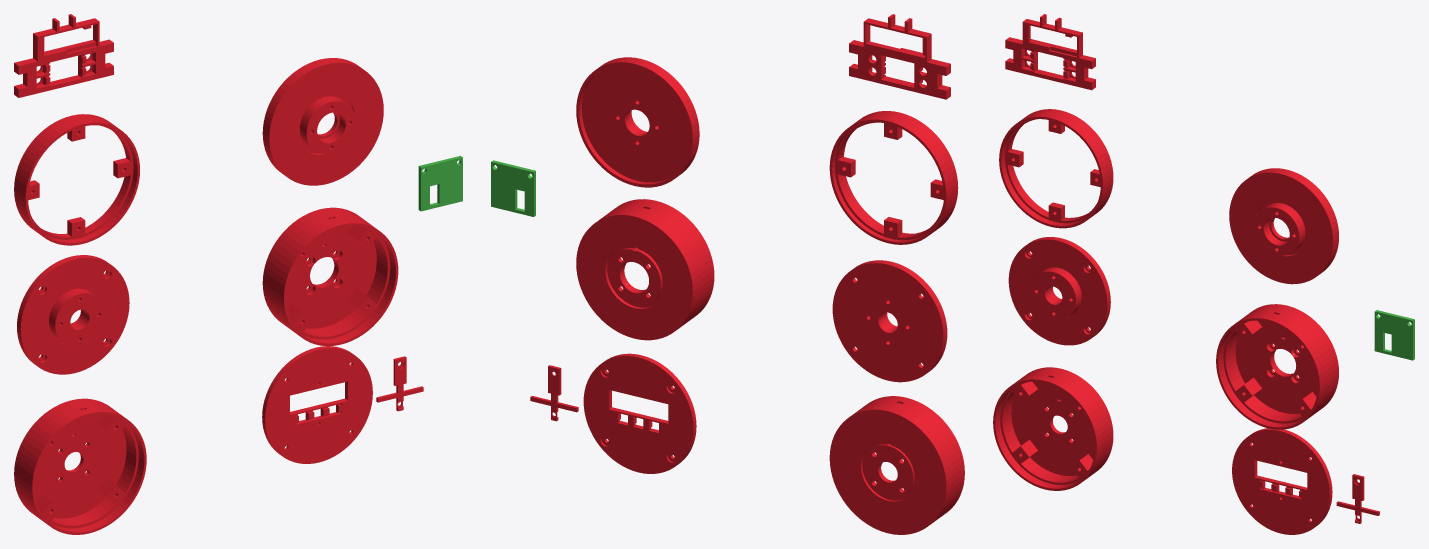
File: tinker.obj
3 renders of one model, left to right at view 1: azimuth 30°, elevation 25°; view 2: azimuth 150°, elevation 25°; view 3: azimuth 330°, elevation 25°, orthographic. The views are drawn at different scales.
Visible parts, largest first — view 1: group_0_15277357, group_0_4634441; view 2: group_0_15277357, group_0_4634441; view 3: group_0_15277357, group_0_4634441.
Part boxes in pixels (bbox=[...]): group_0_15277357: bbox=[14, 14, 423, 534]; group_0_4634441: bbox=[418, 155, 462, 211]; group_0_15277357: bbox=[530, 14, 964, 534]; group_0_4634441: bbox=[491, 160, 535, 216]; group_0_15277357: bbox=[993, 14, 1379, 534]; group_0_4634441: bbox=[1374, 310, 1414, 360].
Size of the model in its own units: 297 by 322 by 24.38.
